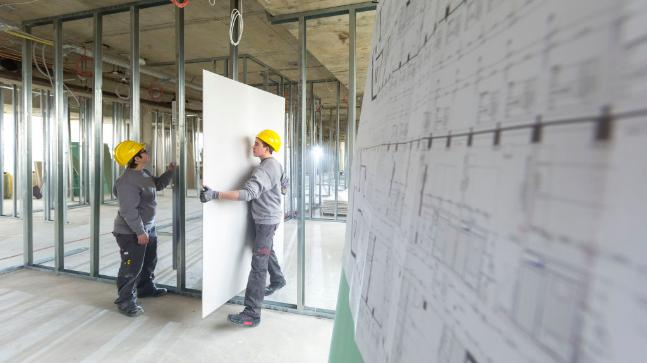NoJacket: (110, 140, 158, 237), (247, 129, 285, 234)
